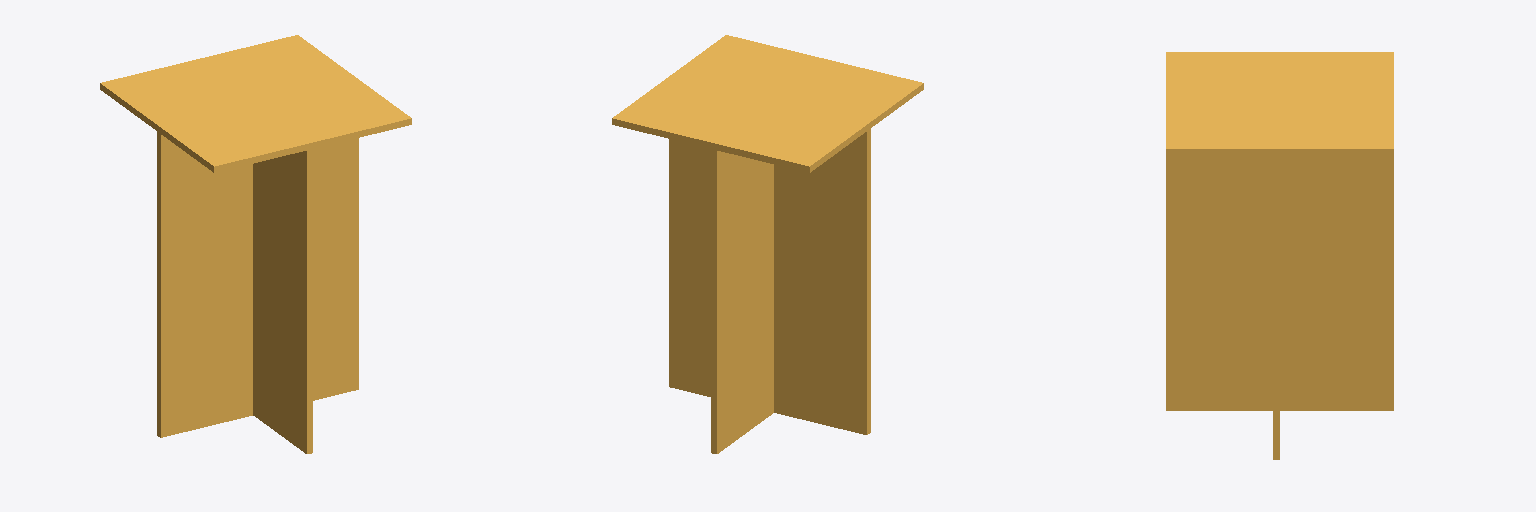
3 renders of one model, left to right at view 1: azimuth 30°, elevation 25°; view 2: azimuth 150°, elevation 25°; view 3: azimuth 270°, elevation 25°, orthographic.
Visible parts, largest first — view 1: 橙光; view 2: 橙光; view 3: 橙光.
Boxes of the visible parts, x1,y1,x2,y2 form: 橙光: [100, 35, 411, 453]; 橙光: [612, 35, 923, 453]; 橙光: [1166, 52, 1393, 459].
Bounding box in the file's own units: 32 × 48 × 32.
1 materials, 1 textured.